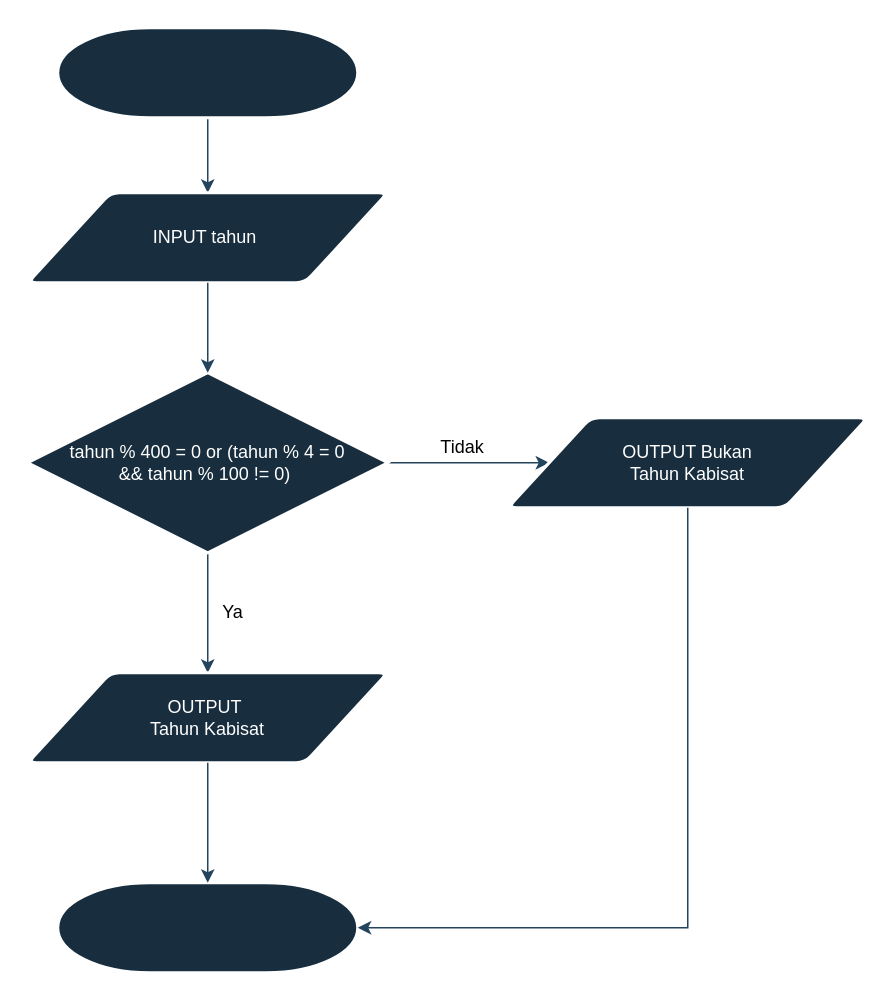
Image size: 894x999. Some labels were removed from this diagram. The shapes that lost their labels are listed below. From the top down, each one's centre as x and y in pixels, then its label:
point (207, 72): START
point (207, 927): END
